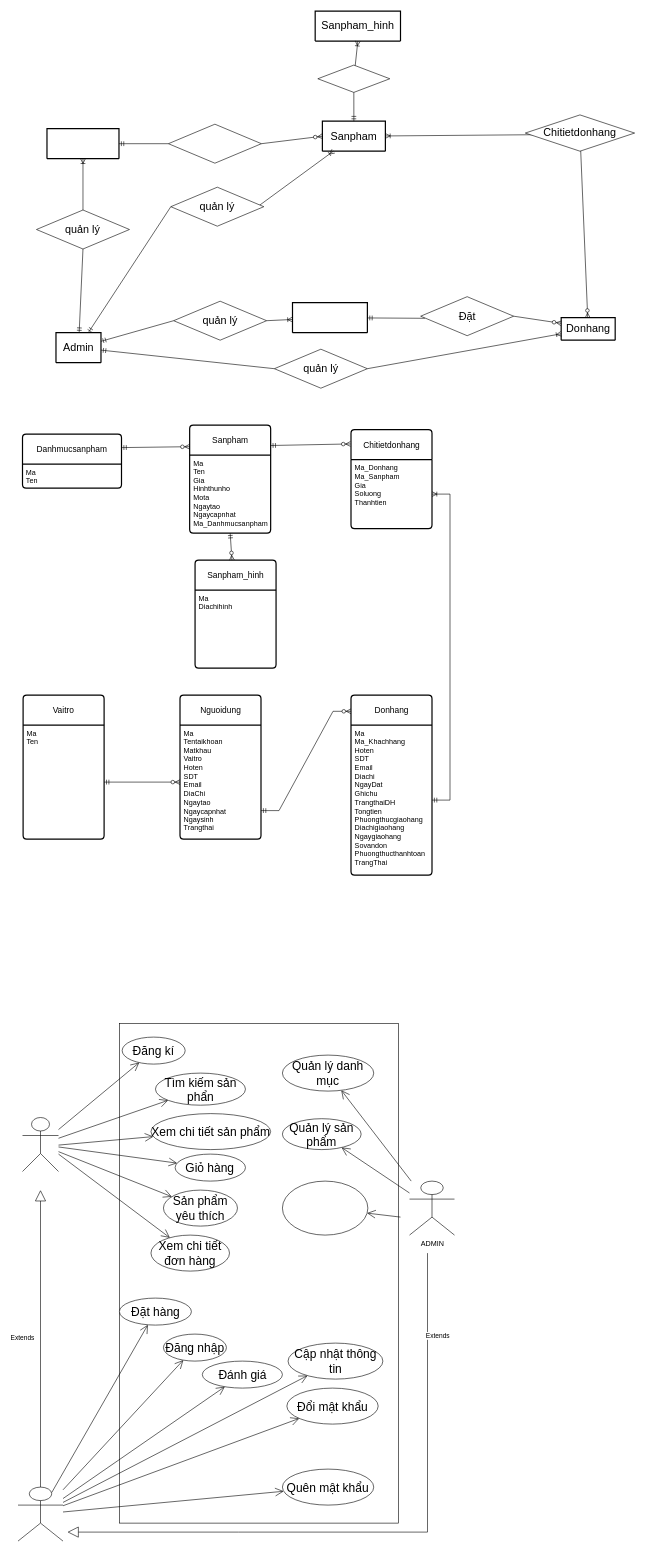
Image size: 645x1564. Some labels were removed from this diagram. The shapes that lost their labels are listed below. From the top down, each one's centre as x and y in pixels, then its label:
point 353,78: có
point 82,143: Danhmuc sanpham
point 214,143: gồm
point 330,317: Khachhang
point 40,1144: Guest
point 325,1207: Quản lý đơn hàng
point 40,1513: USER
